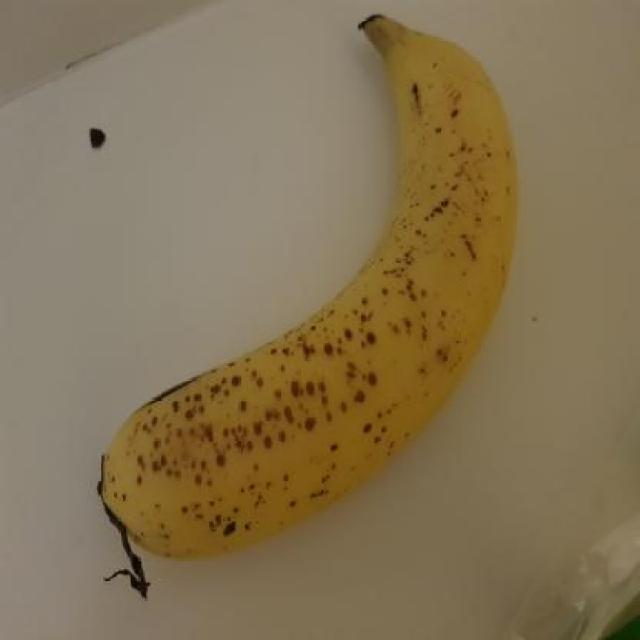Banana: (92, 11, 525, 590)
